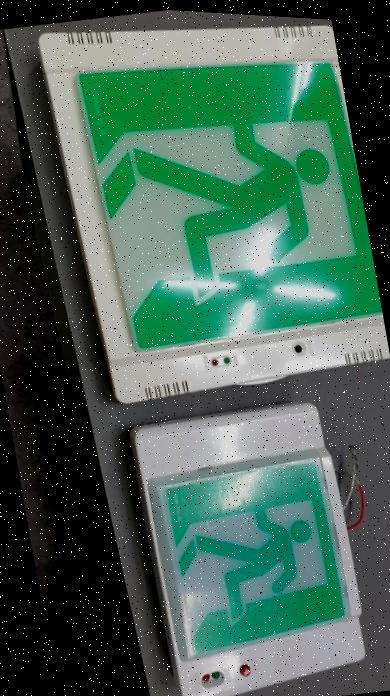emergency_exit: (6, 10, 388, 694), (34, 15, 388, 404), (129, 401, 367, 695)
